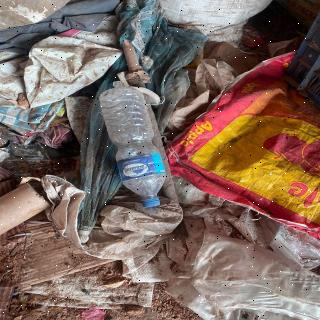Plastic-bottle: (98, 86, 170, 211)
